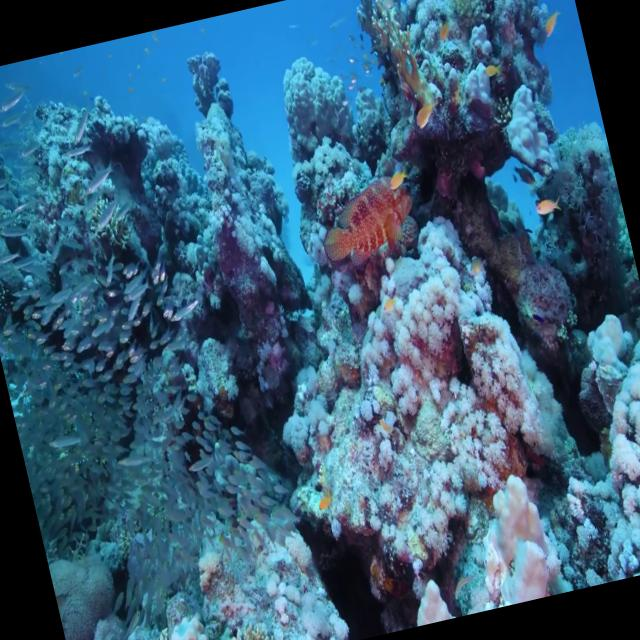fish: (309, 170, 425, 274)
